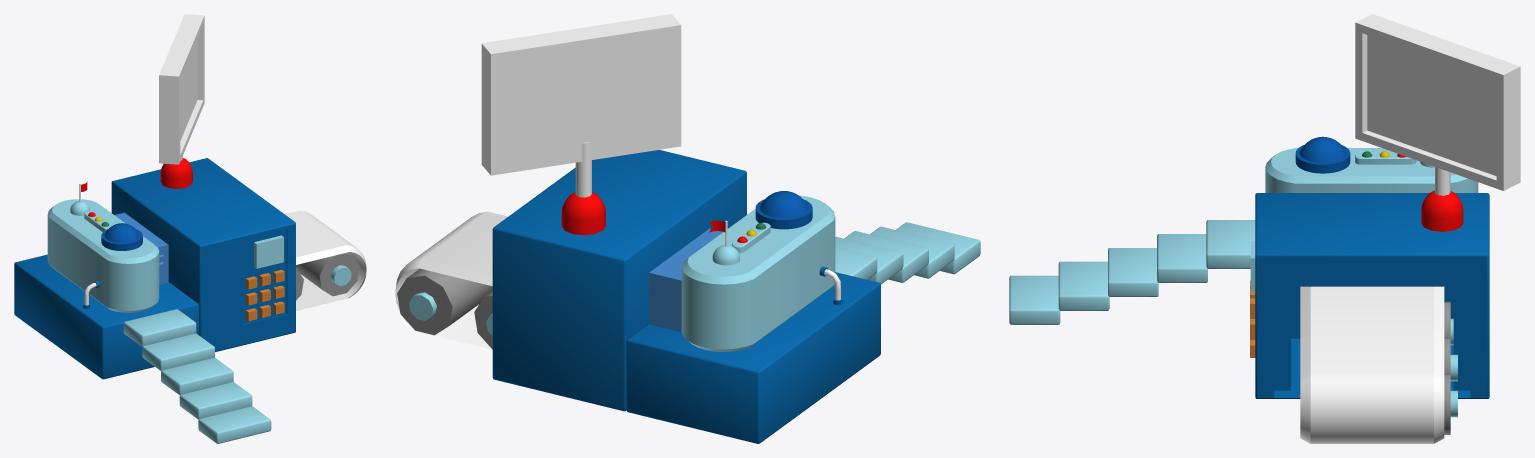
3 renders of one model, left to right at view 1: azimuth 30°, elevation 25°; view 2: azimuth 150°, elevation 25°; view 3: azimuth 270°, elevation 25°, orthographic. The views are drawn at different scales.
Parts seen in each view (by area): view 1: ChamferBox007, ChamferBox001, ChamferCyl001, Box002, ChamferCyl003, ChamferBox006, ChamferBox002, ChamferBox005, ChamferBox003, ChamferBox004, Cylinder006, Sphere001 (+3 smaller); view 2: ChamferBox007, Box002, ChamferBox001, ChamferCyl001, ChamferCyl003, Cylinder006, Box001, Sphere001, Capsule001, ChamferBox006, ChamferBox005, ChamferBox004 (+5 smaller); view 3: ChamferBox007, ChamferCyl003, Box002, ChamferCyl001, ChamferBox006, ChamferBox005, ChamferBox003, ChamferBox004, ChamferBox002, Sphere001, Capsule001, ChamferCyl002.
Part boxes in pixels (x1=…): ChamferBox007: x1=111, y1=158, x2=295, y2=351; ChamferBox001: x1=14, y1=254, x2=198, y2=379; ChamferCyl001: x1=47, y1=199, x2=159, y2=312; Box002: x1=159, y1=14, x2=204, y2=164; ChamferCyl003: x1=285, y1=210, x2=366, y2=310; ChamferBox006: x1=198, y1=406, x2=271, y2=443; ChamferBox002: x1=123, y1=309, x2=196, y2=346; ChamferBox005: x1=179, y1=382, x2=252, y2=419; ChamferBox003: x1=142, y1=333, x2=214, y2=370; ChamferBox004: x1=161, y1=357, x2=233, y2=395; Cylinder006: x1=285, y1=213, x2=359, y2=296; Sphere001: x1=101, y1=223, x2=142, y2=250; ChamferBox007: x1=492, y1=150, x2=746, y2=411; Box002: x1=481, y1=14, x2=681, y2=175; ChamferBox001: x1=626, y1=272, x2=880, y2=443; ChamferCyl001: x1=681, y1=195, x2=835, y2=352; ChamferCyl003: x1=395, y1=211, x2=507, y2=349; Cylinder006: x1=397, y1=268, x2=492, y2=335; Box001: x1=649, y1=228, x2=723, y2=332; Sphere001: x1=755, y1=191, x2=812, y2=229; Capsule001: x1=561, y1=192, x2=605, y2=235; ChamferBox006: x1=896, y1=222, x2=980, y2=274; ChamferBox005: x1=870, y1=226, x2=954, y2=278; ChamferBox004: x1=844, y1=231, x2=928, y2=282; ChamferBox007: x1=1255, y1=193, x2=1489, y2=398; ChamferCyl003: x1=1300, y1=286, x2=1444, y2=443; Box002: x1=1355, y1=14, x2=1520, y2=190; ChamferCyl001: x1=1265, y1=148, x2=1478, y2=192; ChamferBox006: x1=1009, y1=275, x2=1060, y2=324; ChamferBox005: x1=1058, y1=261, x2=1109, y2=310; ChamferBox003: x1=1157, y1=234, x2=1207, y2=282; ChamferBox004: x1=1108, y1=248, x2=1158, y2=296; ChamferBox002: x1=1206, y1=220, x2=1255, y2=268; Sphere001: x1=1295, y1=136, x2=1350, y2=173; Capsule001: x1=1421, y1=190, x2=1463, y2=231; ChamferCyl002: x1=1355, y1=153, x2=1416, y2=164.
Size of the model in its own units: 162 by 135 by 191.
